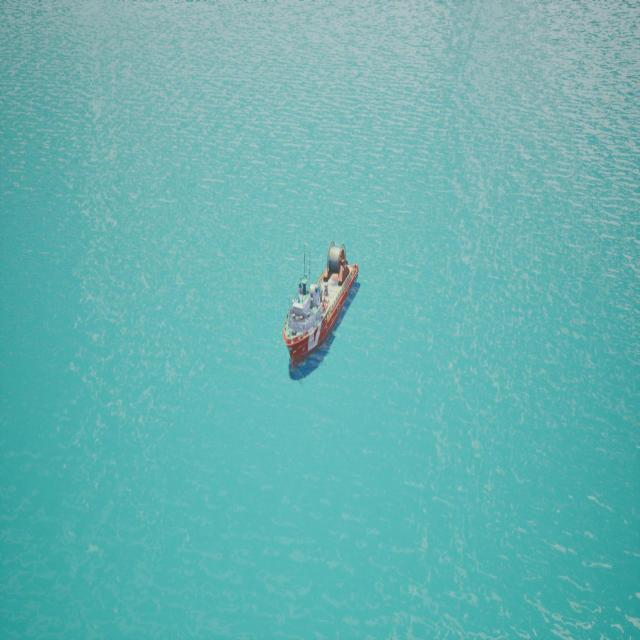tug boat: (284, 245, 360, 386)
